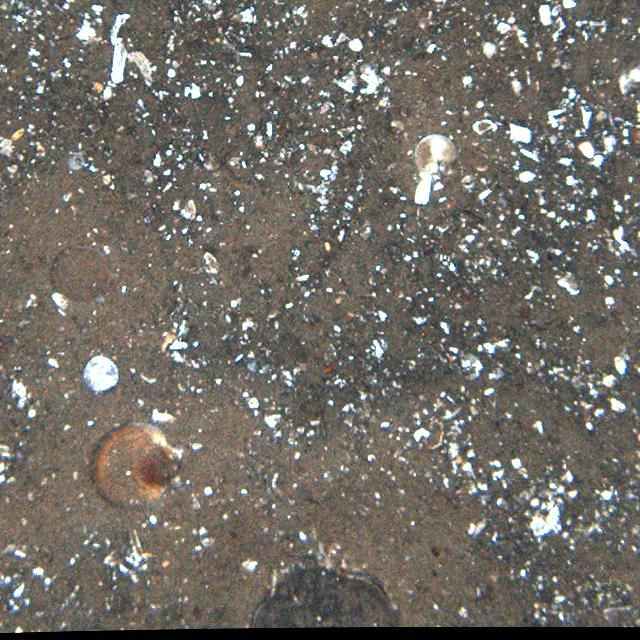scallop: (92, 423, 186, 503)
